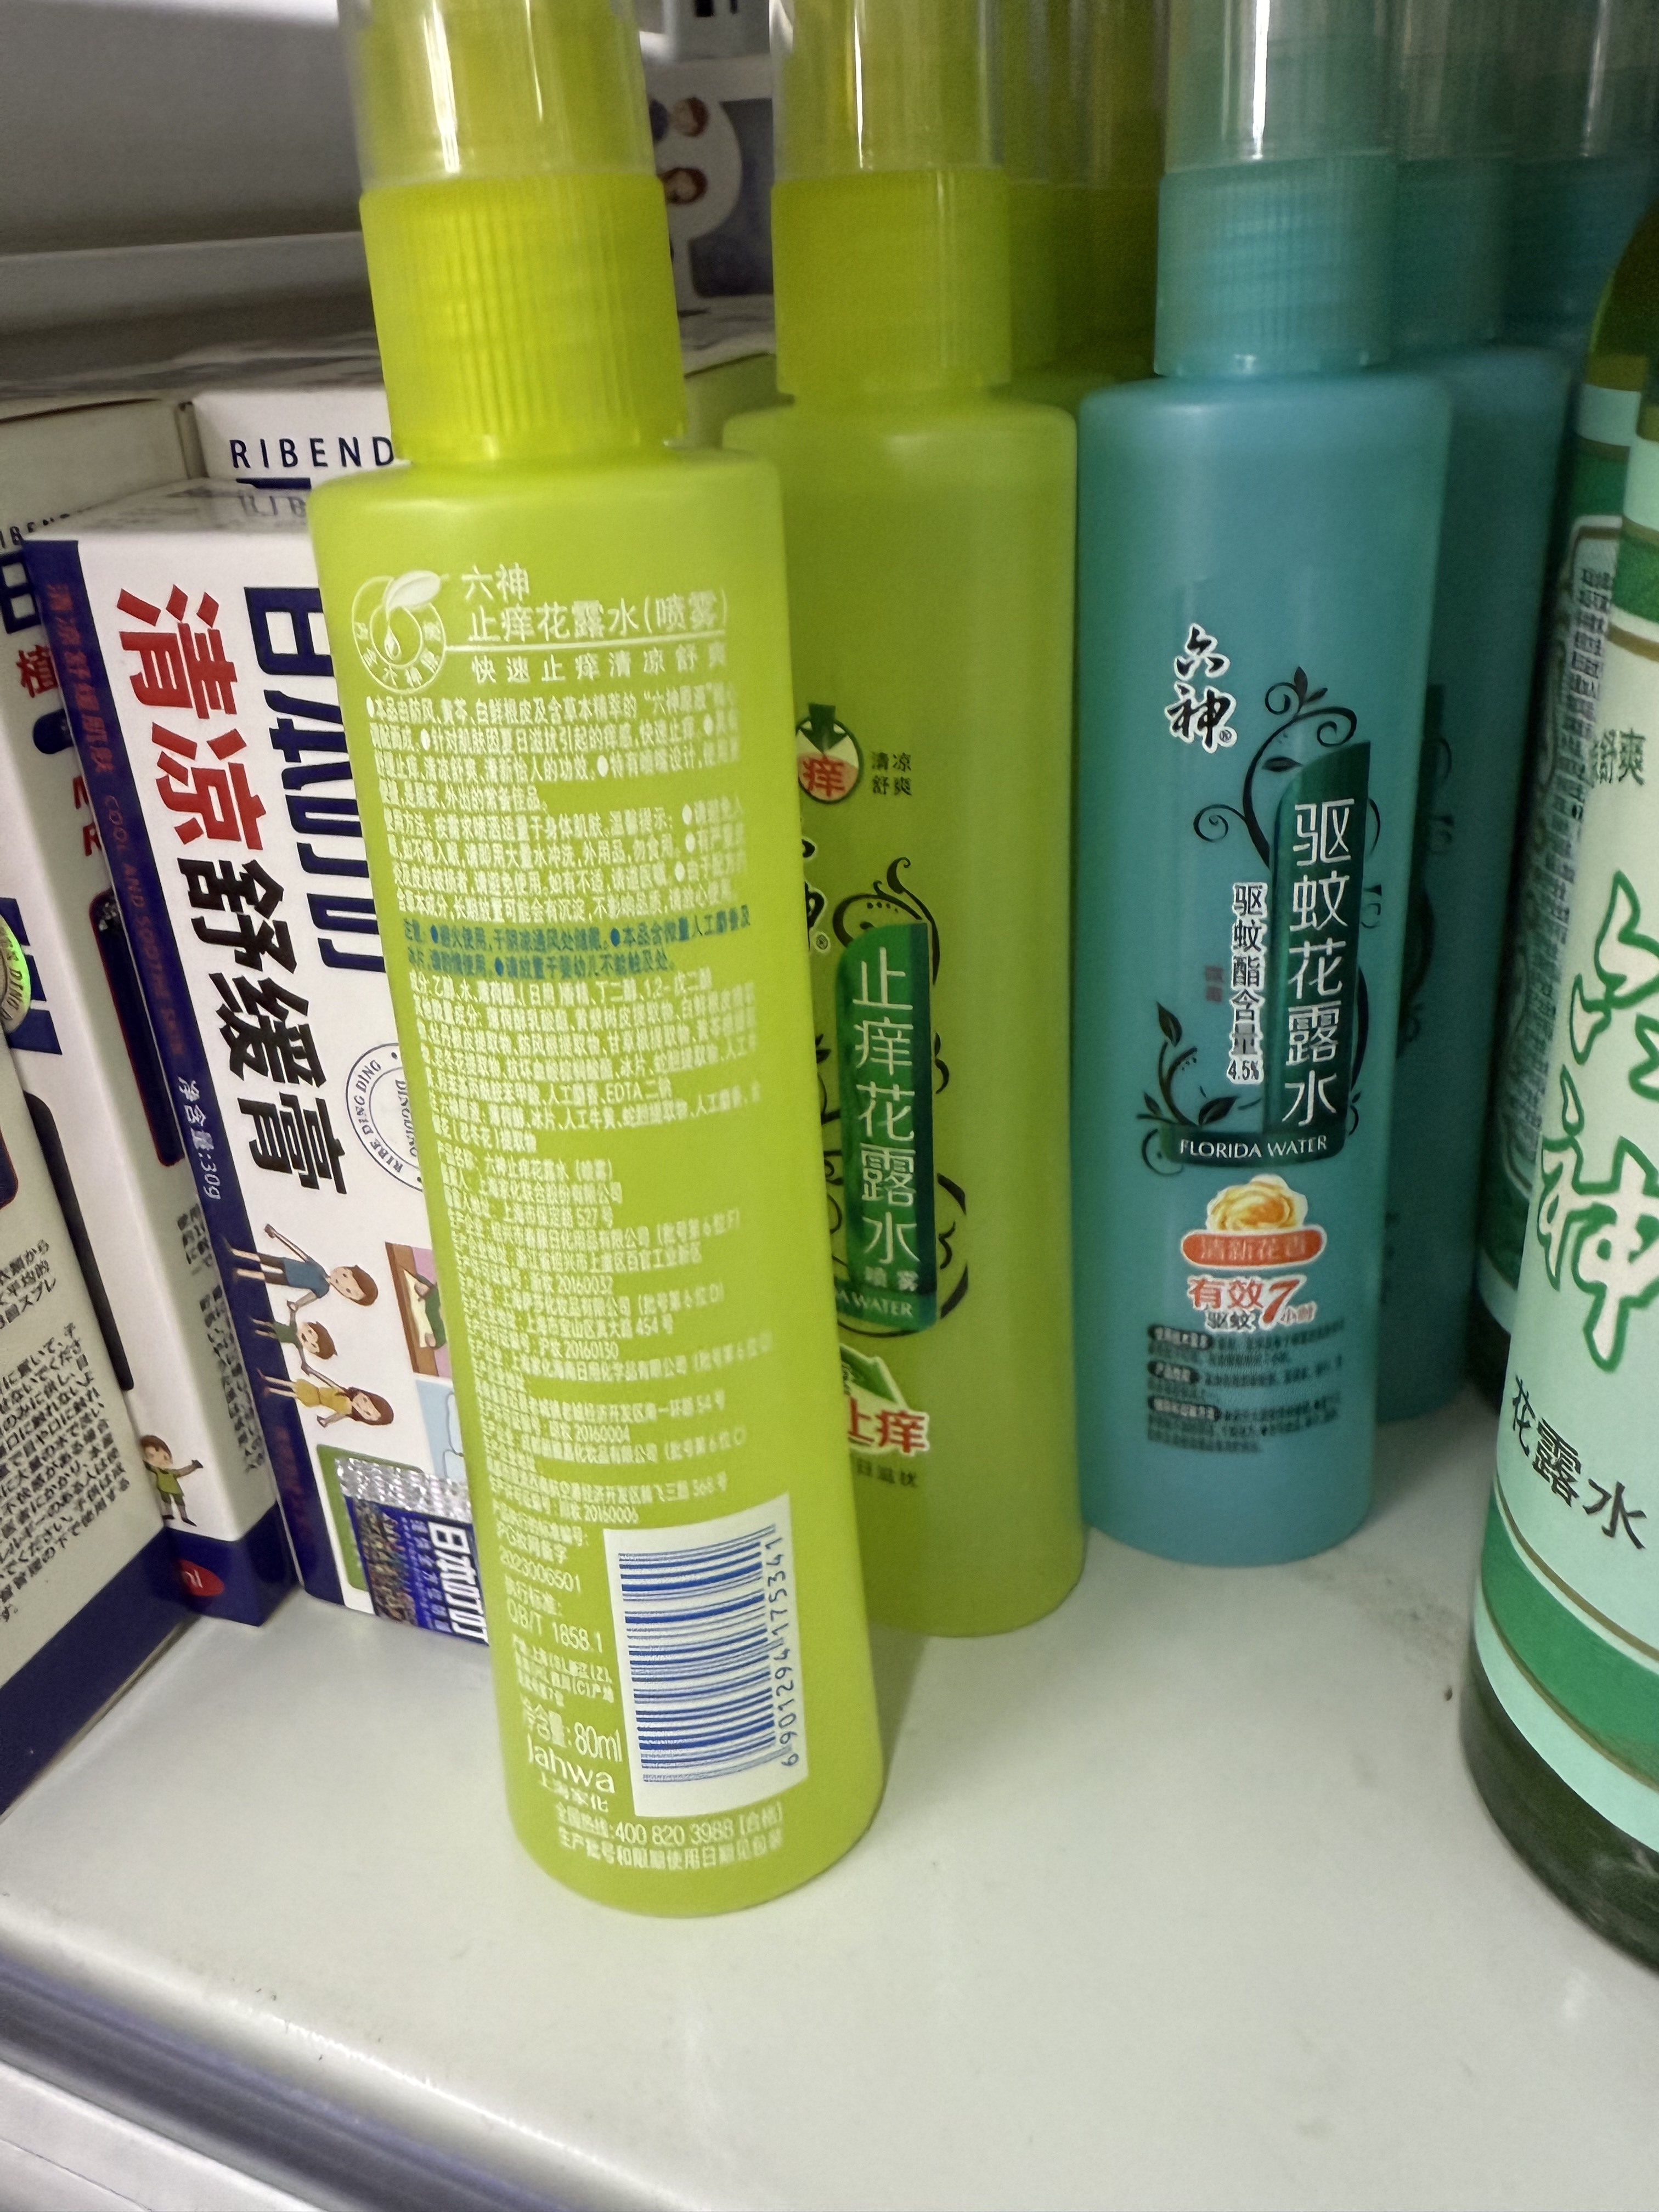bar: (605, 1517, 802, 1791)
